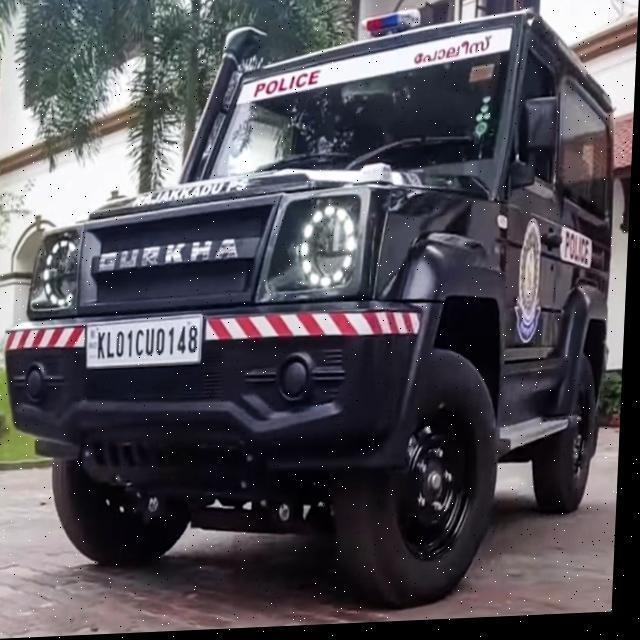Ambulance: (0, 2, 627, 628), (0, 428, 622, 638)
